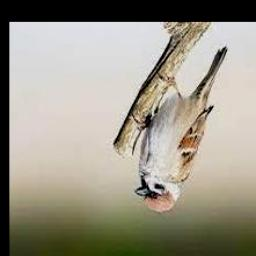Sparrow: (136, 48, 227, 214)
